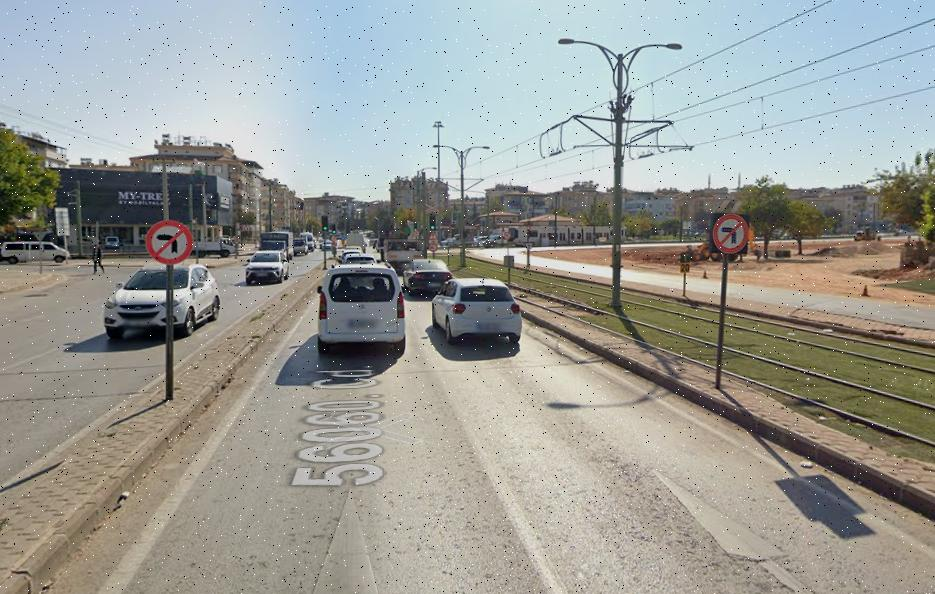greenlight: (428, 213, 437, 231), (322, 215, 329, 231), (332, 223, 336, 234), (413, 222, 417, 231)
leftturnsareforbidden: (148, 222, 193, 264), (714, 216, 749, 252)
